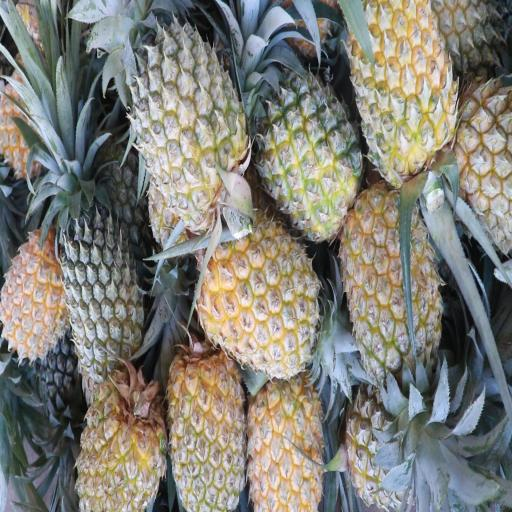------------------------------: (132, 18, 242, 215), (260, 68, 357, 232), (347, 381, 433, 504)
Pineapple - v8 v1: (202, 212, 322, 372), (349, 0, 456, 173), (340, 190, 442, 368), (77, 361, 168, 512), (166, 352, 245, 512), (250, 378, 325, 512), (3, 221, 76, 355), (0, 67, 56, 176)
